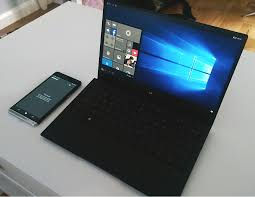Cell Phone: (8, 70, 82, 126)
